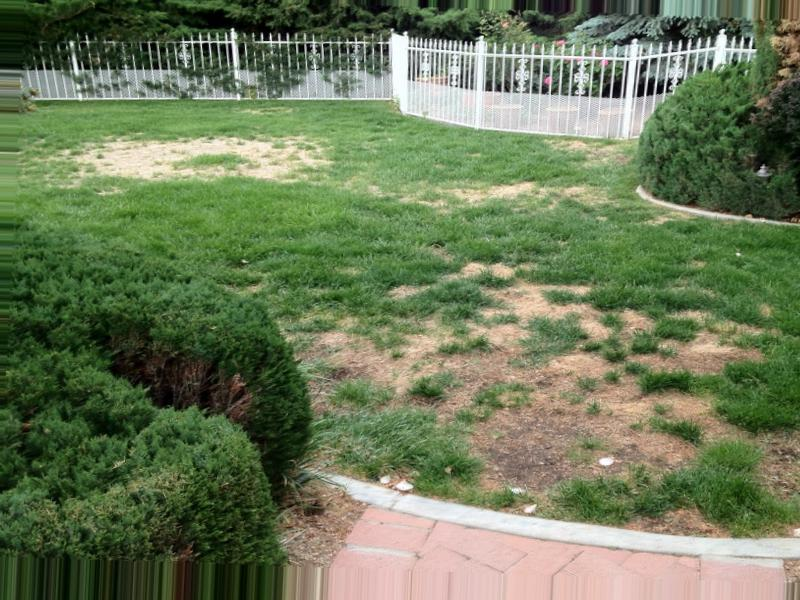patch: (551, 316, 701, 523), (445, 272, 531, 505), (308, 323, 433, 409), (116, 130, 312, 182), (77, 145, 176, 177), (467, 181, 548, 202)
